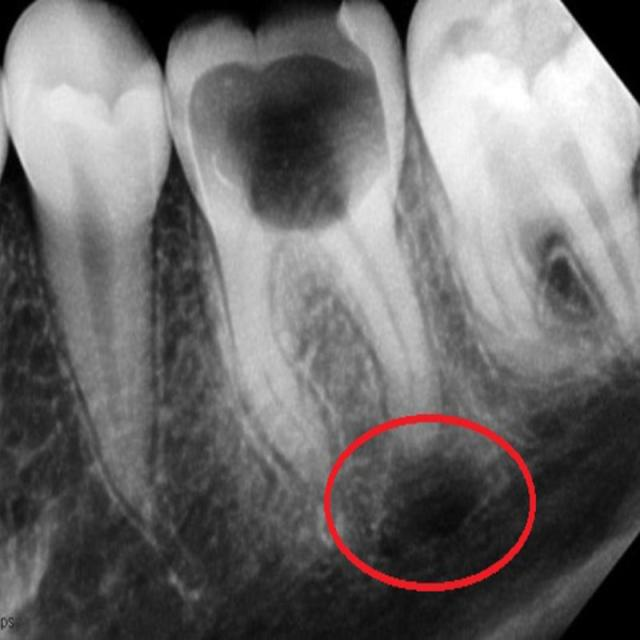Caries: (163, 5, 404, 402)
